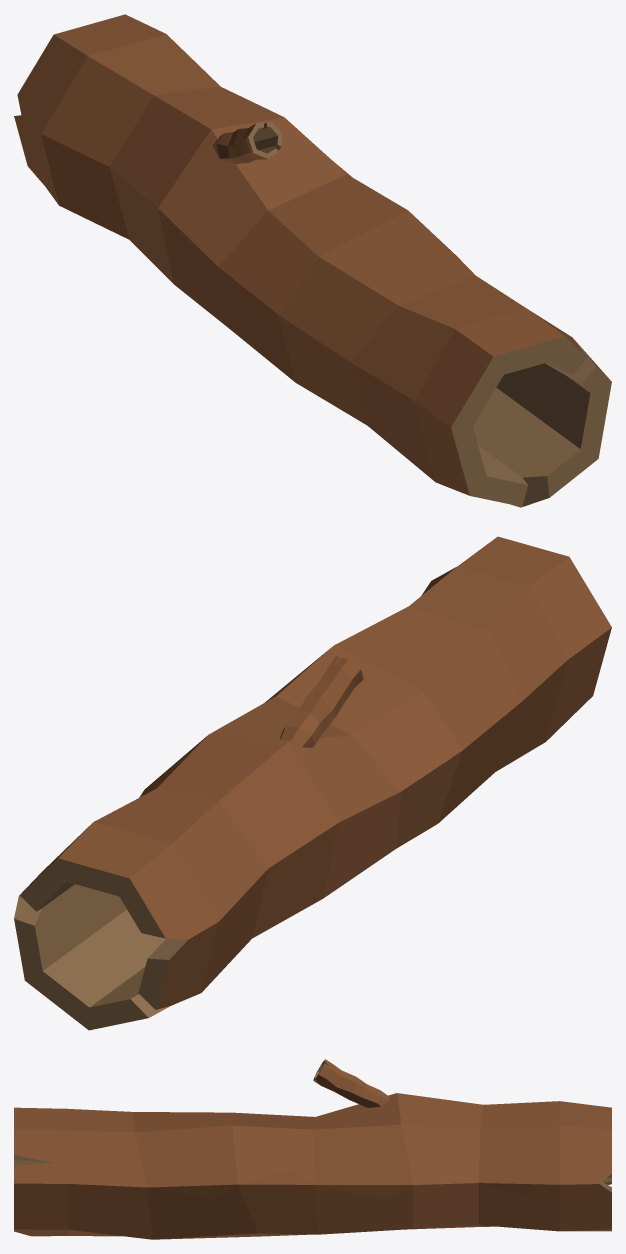
The model's file is log.fbx.
3 views of the same model, one above another, from view 1: azimuth 30°, elevation 25°; view 2: azimuth 150°, elevation 25°; view 3: azimuth 270°, elevation 25° (orthographic). The views are drawn at different scales.
Parts seen in each view (by area): view 1: Log; view 2: Log; view 3: Log.
Boxes of the visible parts, left/top/right/bottom form: Log: left=14, top=14, right=611, bottom=507; Log: left=14, top=536, right=611, bottom=1030; Log: left=14, top=1059, right=611, bottom=1239.
Bounding box in the file's own units: 205 × 252 × 841.
